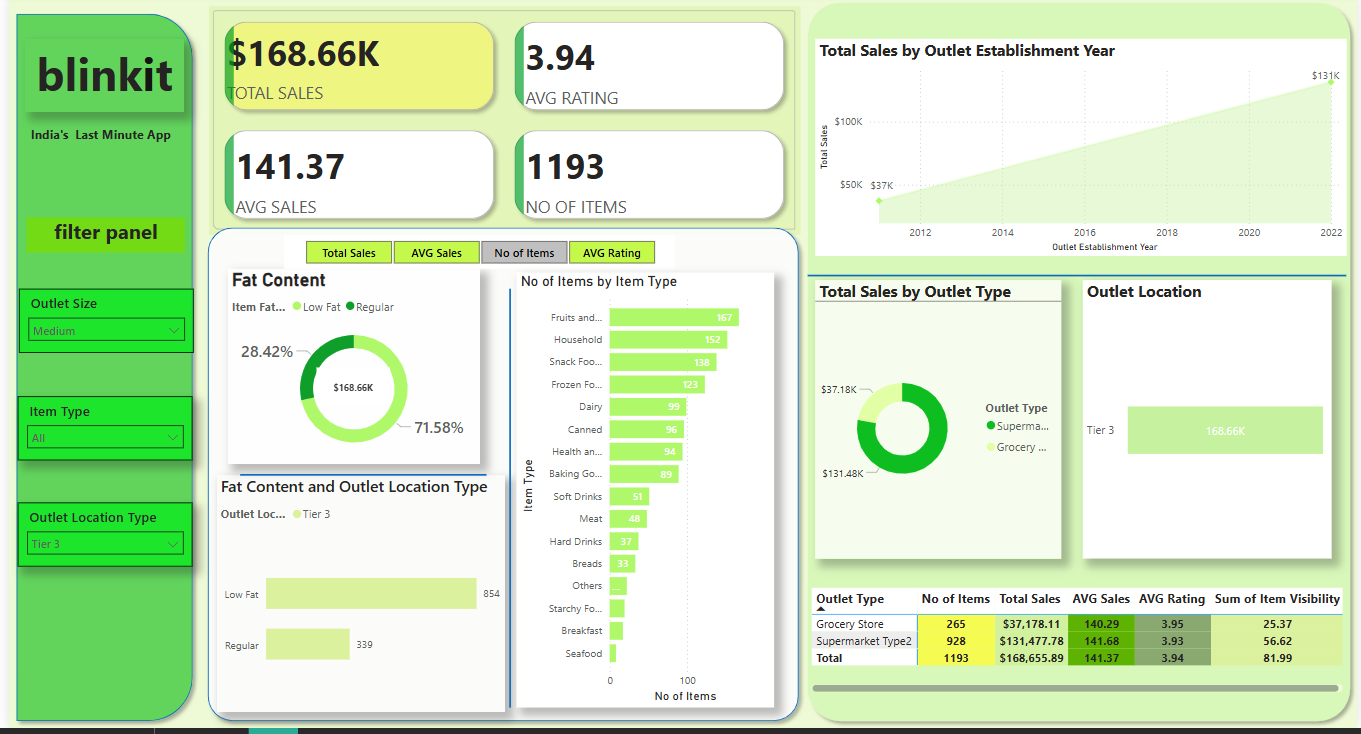

Layout of this report page (visuals, bound fields, positions):
{"tool":"powerbi","page":{"name":"Page 1","canvas":[1600,870],"ordinal":0},"visuals":[{"type":"shape","box":[0,13.3,226.8,857],"z":0},{"type":"textbox","box":[19.3,51.9,188.3,87.5],"z":1000},{"type":"textbox","box":[20.8,149.7,188.3,43],"z":2000},{"type":"cardVisual","fields":{"Data":["BlinkIT Grocery Data.Total Sales","BlinkIT Grocery Data.AVG Rating","BlinkIT Grocery Data.AVG Sales","BlinkIT Grocery Data.No of Items"]},"box":[237.2,13.3,701.3,271.3],"z":3000},{"type":"shape","box":[226.8,266.9,719.1,603.4],"z":4000},{"type":"donutChart","title":" Fat Content","fields":{"Y":["BlinkIT Grocery Data.Total Sales"],"Category":["BlinkIT Grocery Data.Item Fat Content"]},"box":[259.5,324.7,299.5,231.3],"z":5000},{"type":"slicer","fields":{"Values":["Metrics.Metrics"]},"box":[326.2,284.7,464.1,40],"z":6000},{"type":"cardVisual","fields":{"Data":["BlinkIT Grocery Data.Total Sales"]},"box":[364.7,441.8,87.5,41.5],"z":7000},{"type":"clusteredBarChart","title":"Fat Content and Outlet Location Type","fields":{"Y":["BlinkIT Grocery Data.Total Sales"],"Category":["BlinkIT Grocery Data.Item Fat Content"],"Series":["BlinkIT Grocery Data.Outlet Location Type"]},"box":[246.1,569.3,342.5,281.7],"z":8000},{"type":"shape","box":[274.3,551.5,292.1,35.6],"z":9000},{"type":"shape","box":[579.7,358.8,43,486.3],"z":10000},{"type":"barChart","fields":{"Y":["BlinkIT Grocery Data.Total Sales"],"Category":["BlinkIT Grocery Data.Item Type"]},"box":[601.9,329.1,305.4,516],"z":11000},{"type":"shape","box":[938.5,0,661.3,870.3],"z":12000},{"type":"lineChart","fields":{"Category":["BlinkIT Grocery Data.Outlet Establishment Year"],"Y":["BlinkIT Grocery Data.Total Sales"]},"box":[956.3,51.9,630.1,258],"z":13000},{"type":"donutChart","fields":{"Y":["BlinkIT Grocery Data.Total Sales"],"Category":["BlinkIT Grocery Data.Outlet Type"]},"box":[956.3,338,292.1,330.6],"z":13001},{"type":"shape","box":[947.4,182.4,639,301],"z":13002},{"type":"funnel","title":" Outlet Location ","fields":{"Category":["BlinkIT Grocery Data.Outlet Location Type"],"Y":["Sum(BlinkIT Grocery Data.Sales)"]},"box":[1273.6,338,295,330.6],"z":13003},{"type":"pivotTable","fields":{"Rows":["BlinkIT Grocery Data.Outlet Type"],"Values":["BlinkIT Grocery Data.No of Items","BlinkIT Grocery Data.Total Sales","BlinkIT Grocery Data.AVG Sales","BlinkIT Grocery Data.AVG Rating","Sum(BlinkIT Grocery Data.Item Visibility)"]},"box":[947.4,698.3,639,133.4],"z":13004},{"type":"slicer","fields":{"Values":["BlinkIT Grocery Data.Outlet Location Type"]},"box":[10.4,601.9,207.6,75.6],"z":13005},{"type":"slicer","fields":{"Values":["BlinkIT Grocery Data.Outlet Size"]},"box":[11.9,348.4,207.6,75.6],"z":13006},{"type":"slicer","fields":{"Values":["BlinkIT Grocery Data.Item Type"]},"box":[10.4,475.9,207.6,75.6],"z":13007},{"type":"cardVisual","title":"filter panel","fields":{"Data":["BlinkIT Grocery Data.Total Sales"]},"box":[20.8,263.9,188.3,41.5],"z":13008}]}

Visuals, with their boxes in screenshot pixels (x1, y1, x2, y2), scaled from the page's 1600x870 canvas onto the 1361x734 screenshot:
shape: {"left": 0, "top": 11, "right": 193, "bottom": 733}
textbox: {"left": 16, "top": 44, "right": 177, "bottom": 118}
textbox: {"left": 18, "top": 126, "right": 178, "bottom": 163}
cardVisual - BlinkIT Grocery Data.Total Sales x BlinkIT Grocery Data.AVG Rating: {"left": 202, "top": 11, "right": 798, "bottom": 240}
shape: {"left": 193, "top": 225, "right": 805, "bottom": 733}
" Fat Content" donutChart: {"left": 221, "top": 274, "right": 475, "bottom": 469}
slicer - Metrics.Metrics: {"left": 277, "top": 240, "right": 672, "bottom": 274}
cardVisual - BlinkIT Grocery Data.Total Sales: {"left": 310, "top": 373, "right": 385, "bottom": 408}
"Fat Content and Outlet Location Type" clusteredBarChart: {"left": 209, "top": 480, "right": 501, "bottom": 718}
shape: {"left": 233, "top": 465, "right": 482, "bottom": 495}
shape: {"left": 493, "top": 303, "right": 530, "bottom": 713}
barChart - BlinkIT Grocery Data.Total Sales x BlinkIT Grocery Data.Item Type: {"left": 512, "top": 278, "right": 772, "bottom": 713}
shape: {"left": 798, "top": 0, "right": 1360, "bottom": 733}
lineChart - BlinkIT Grocery Data.Outlet Establishment Year x BlinkIT Grocery Data.Total Sales: {"left": 813, "top": 44, "right": 1349, "bottom": 261}
donutChart - BlinkIT Grocery Data.Total Sales x BlinkIT Grocery Data.Outlet Type: {"left": 813, "top": 285, "right": 1062, "bottom": 564}
shape: {"left": 806, "top": 154, "right": 1349, "bottom": 408}
" Outlet Location " funnel: {"left": 1083, "top": 285, "right": 1334, "bottom": 564}
pivotTable - BlinkIT Grocery Data.Outlet Type x BlinkIT Grocery Data.No of Items: {"left": 806, "top": 589, "right": 1349, "bottom": 702}
slicer - BlinkIT Grocery Data.Outlet Location Type: {"left": 9, "top": 508, "right": 185, "bottom": 572}
slicer - BlinkIT Grocery Data.Outlet Size: {"left": 10, "top": 294, "right": 187, "bottom": 358}
slicer - BlinkIT Grocery Data.Item Type: {"left": 9, "top": 402, "right": 185, "bottom": 465}
"filter panel" cardVisual: {"left": 18, "top": 223, "right": 178, "bottom": 258}
